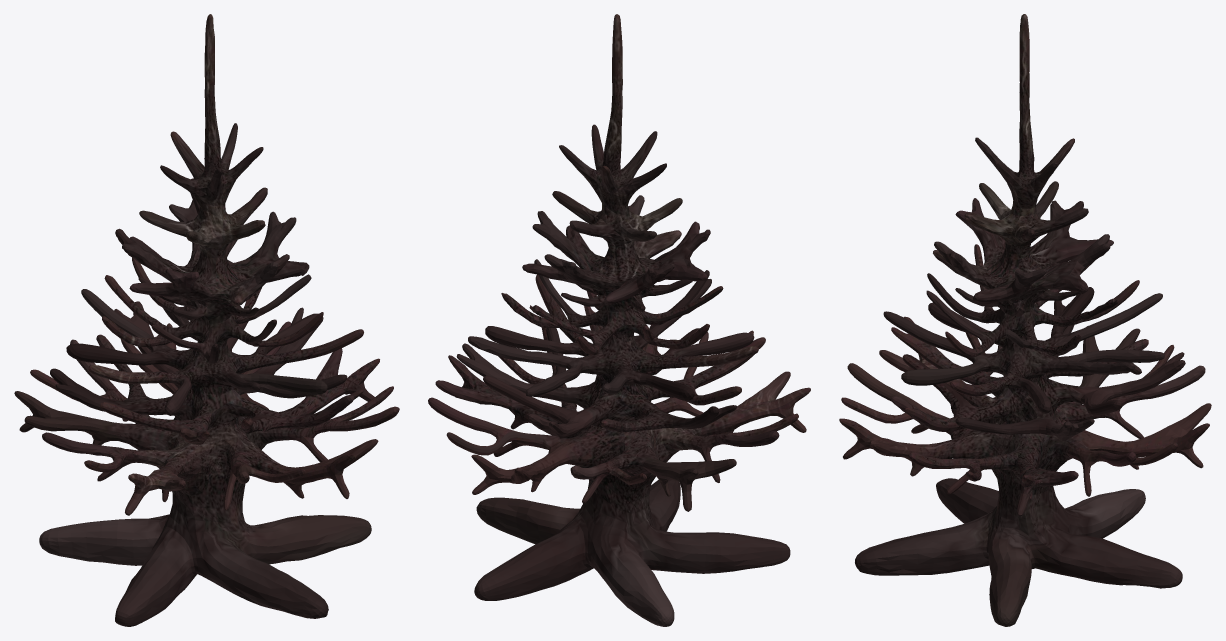
File: SubTool-1-12836067.OBJ
3 renders of one model, left to right at view 1: azimuth 30°, elevation 25°; view 2: azimuth 150°, elevation 25°; view 3: azimuth 270°, elevation 25°, orthographic.
Visible parts, largest first — view 1: Group18475; view 2: Group18475; view 3: Group18475.
Part boxes in pixels (box(x1,y1,x2,y2)): Group18475: box(14, 14, 399, 626); Group18475: box(428, 14, 810, 626); Group18475: box(839, 14, 1211, 626).
Bounding box in the file's own units: 2.63 × 4.19 × 2.56.
